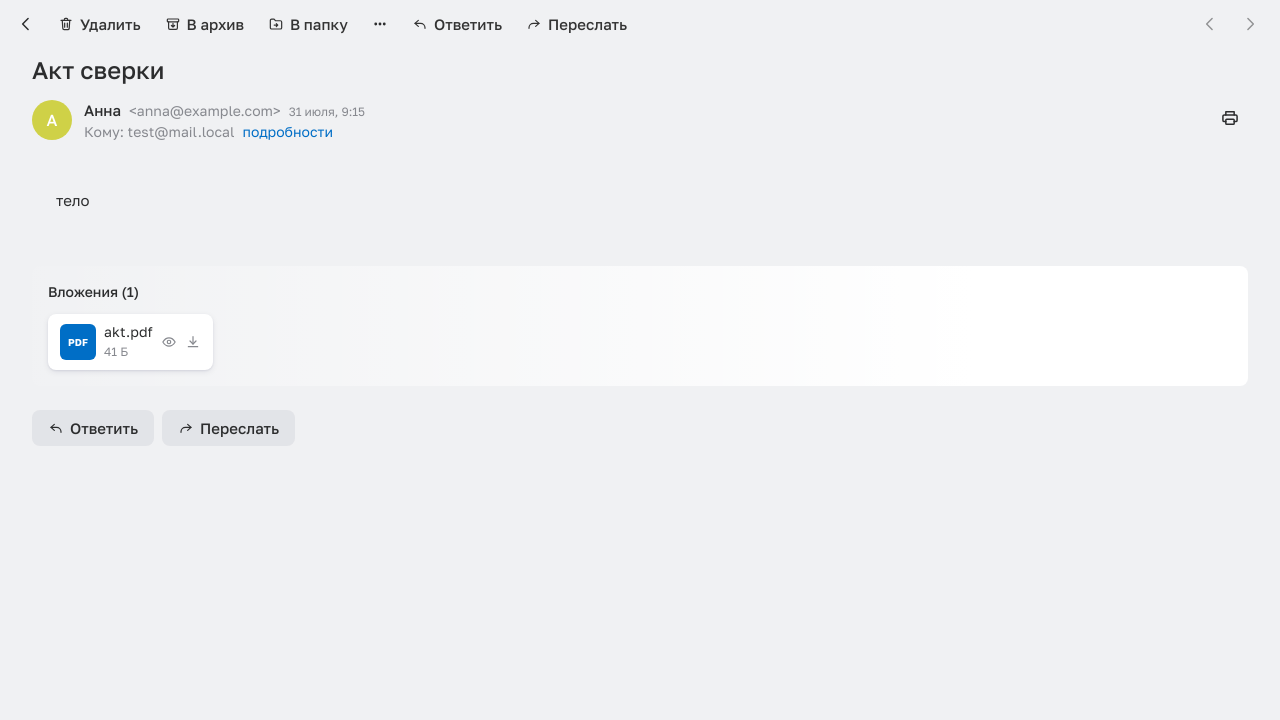
PDF › файл, назвавшийся PDF-ом, но им не являющийся, до просмотрщика не доходит
Click the button "PDF akt.pdf 41 Б". click: (114, 342)
box: [48,314,181,370]
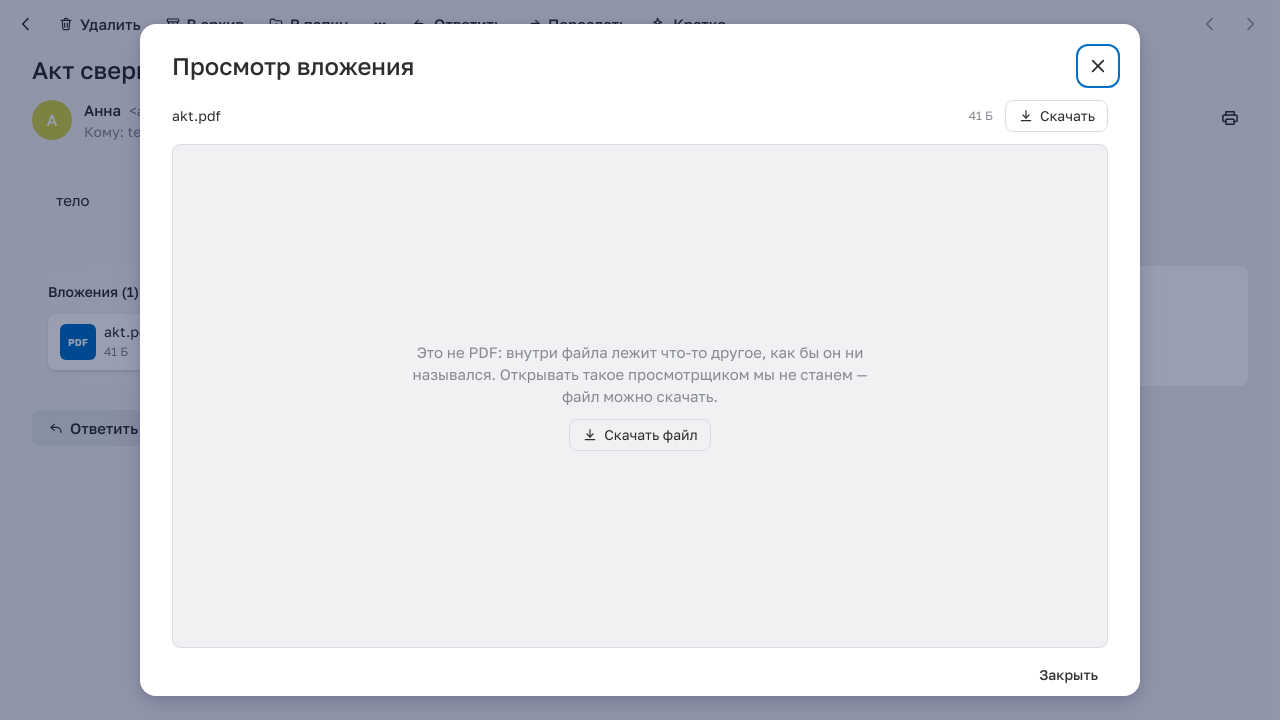
Expected: the text with test id "attachment-preview-refused" shows "не PDF", [412,343,867,405]
